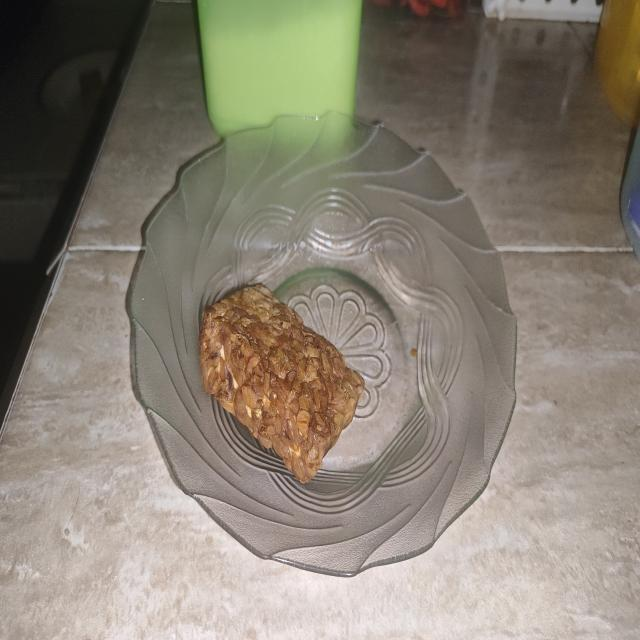tempe_goreng: (200, 284, 364, 482)
